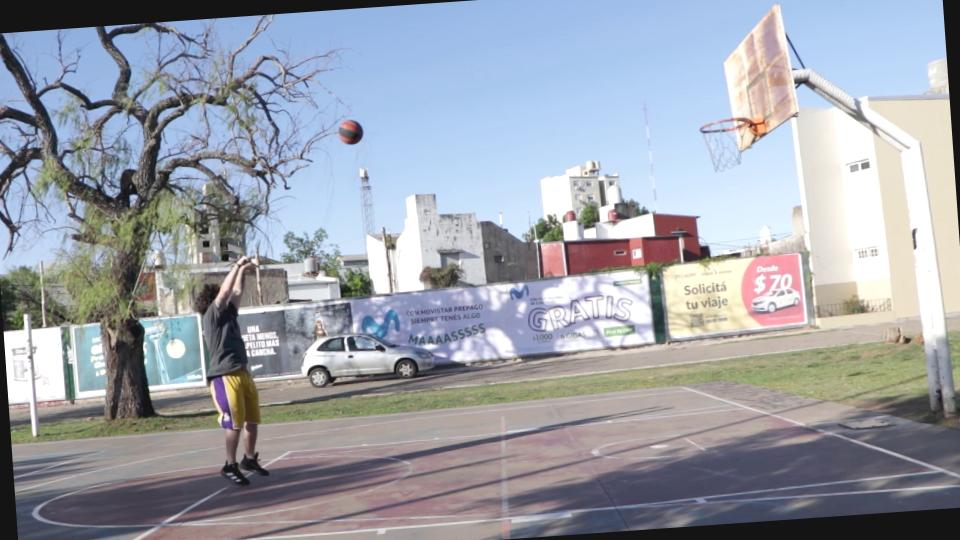hoop: (698, 116, 754, 134)
